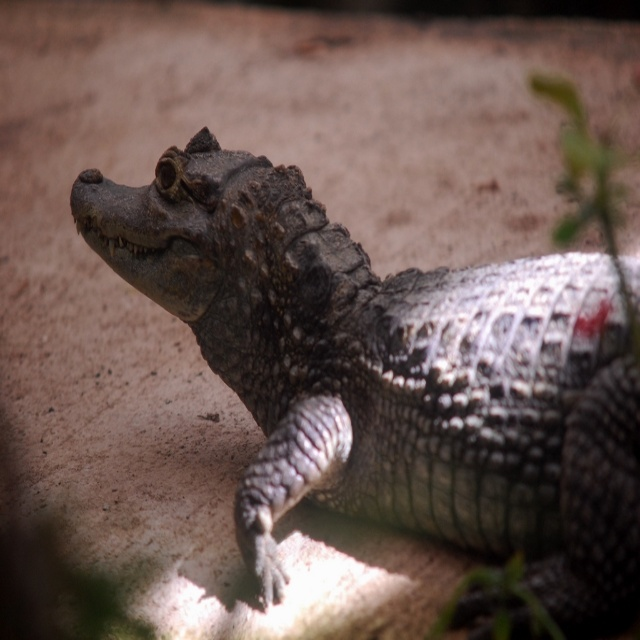Crocodile: (70, 126, 640, 640)
